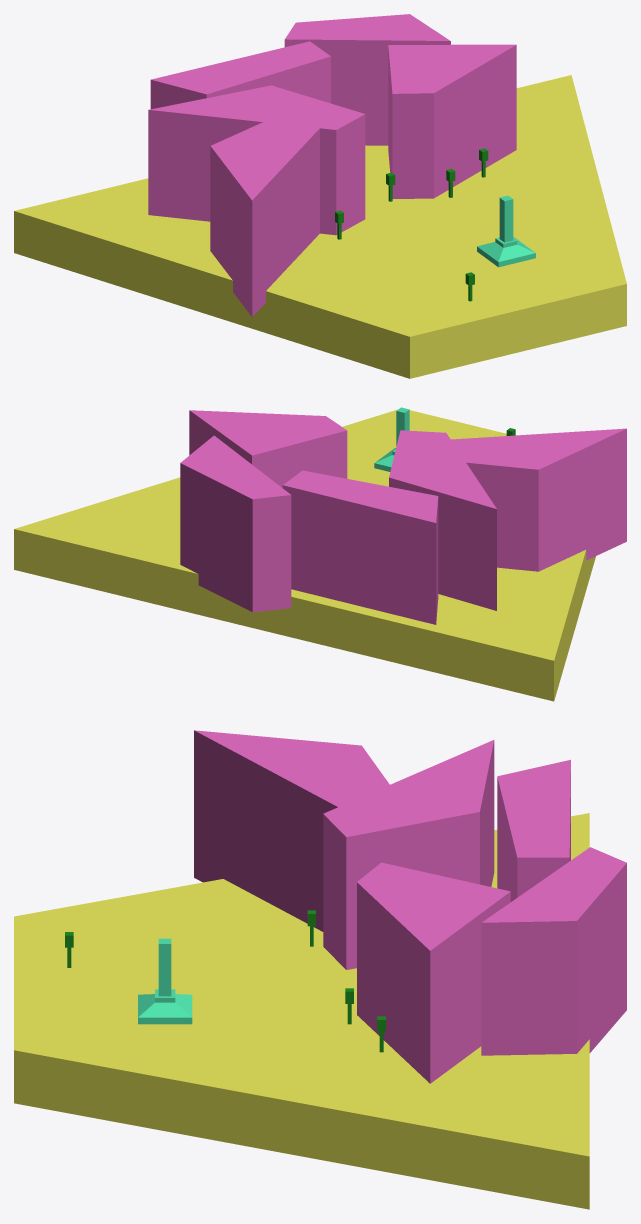
Rendered from fondo 3d preview.fbx.
The picture shows the model from 3 angles, top to bottom: view 1: azimuth 30°, elevation 25°; view 2: azimuth 150°, elevation 25°; view 3: azimuth 270°, elevation 25°; orthographic projection. The views are drawn at different scales.
Visible parts, largest first — view 1: Plane, Cube, Cube.002, Cube.001; view 2: Cube, Plane, Cube.002; view 3: Plane, Cube, Cube.002, Cube.001.
Part boxes in pixels (x1,y1,x2,y2): Plane: (14, 75, 626, 378); Cube: (148, 14, 516, 316); Cube.002: (477, 195, 535, 267); Cube.001: (335, 148, 488, 301); Cube: (180, 410, 626, 624); Plane: (14, 409, 595, 701); Cube.002: (374, 407, 409, 471); Plane: (14, 813, 589, 1209); Cube: (194, 730, 626, 1083); Cube.002: (138, 938, 192, 1024); Cube.001: (65, 910, 385, 1052).
Size of the model in its own units: 5064 by 1278 by 3818.
